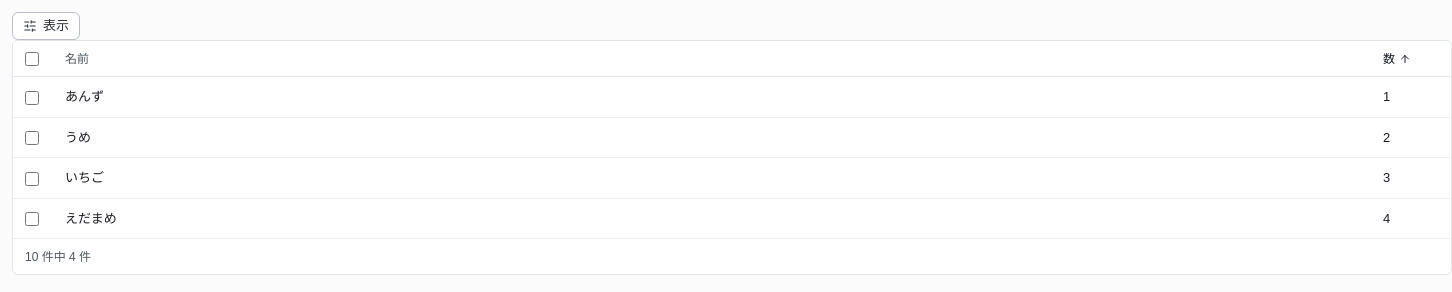
Test: DataTable › picks a range with Shift
Click the checkbox named "選択" next to "あんず": (32, 98) [25,91,39,105]
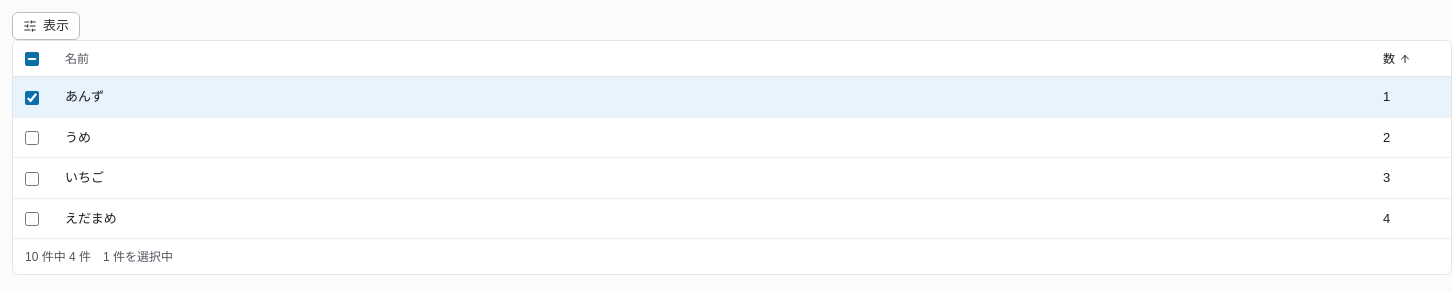
Click the checkbox named "選択" next to "いちご": (32, 179) [25,172,39,186]
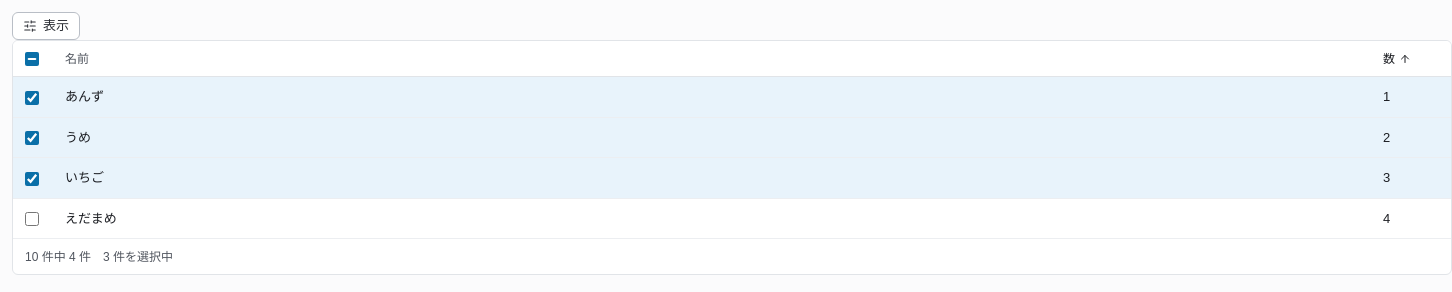
Now the text "3 件を選択中" is shown, box [103,248,173,266]
